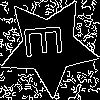E: (23, 21, 72, 60)
